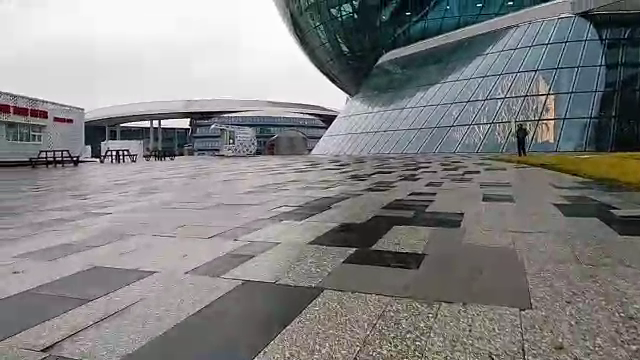kassa: (207, 120, 263, 164)
